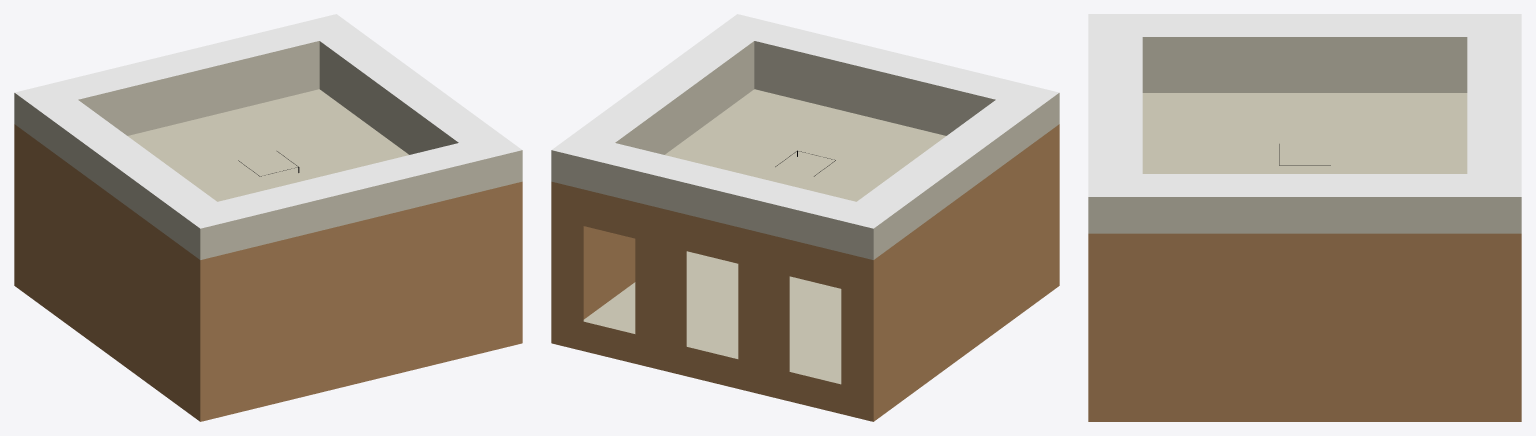
File: Building 50.FBX
The picture shows the model from 3 angles, left to right: view 1: azimuth 30°, elevation 25°; view 2: azimuth 150°, elevation 25°; view 3: azimuth 270°, elevation 25°; orthographic projection. The views are drawn at different scales.
Visible parts, largest first — view 1: Group64; view 2: Group64; view 3: Group64.
Part boxes in pixels (x1,y1,x2,y2): Group64: (14,14,522,421); Group64: (551,14,1059,421); Group64: (1088,14,1521,421).
Bounding box in the file's own units: 29.53 × 16.93 × 29.53.
